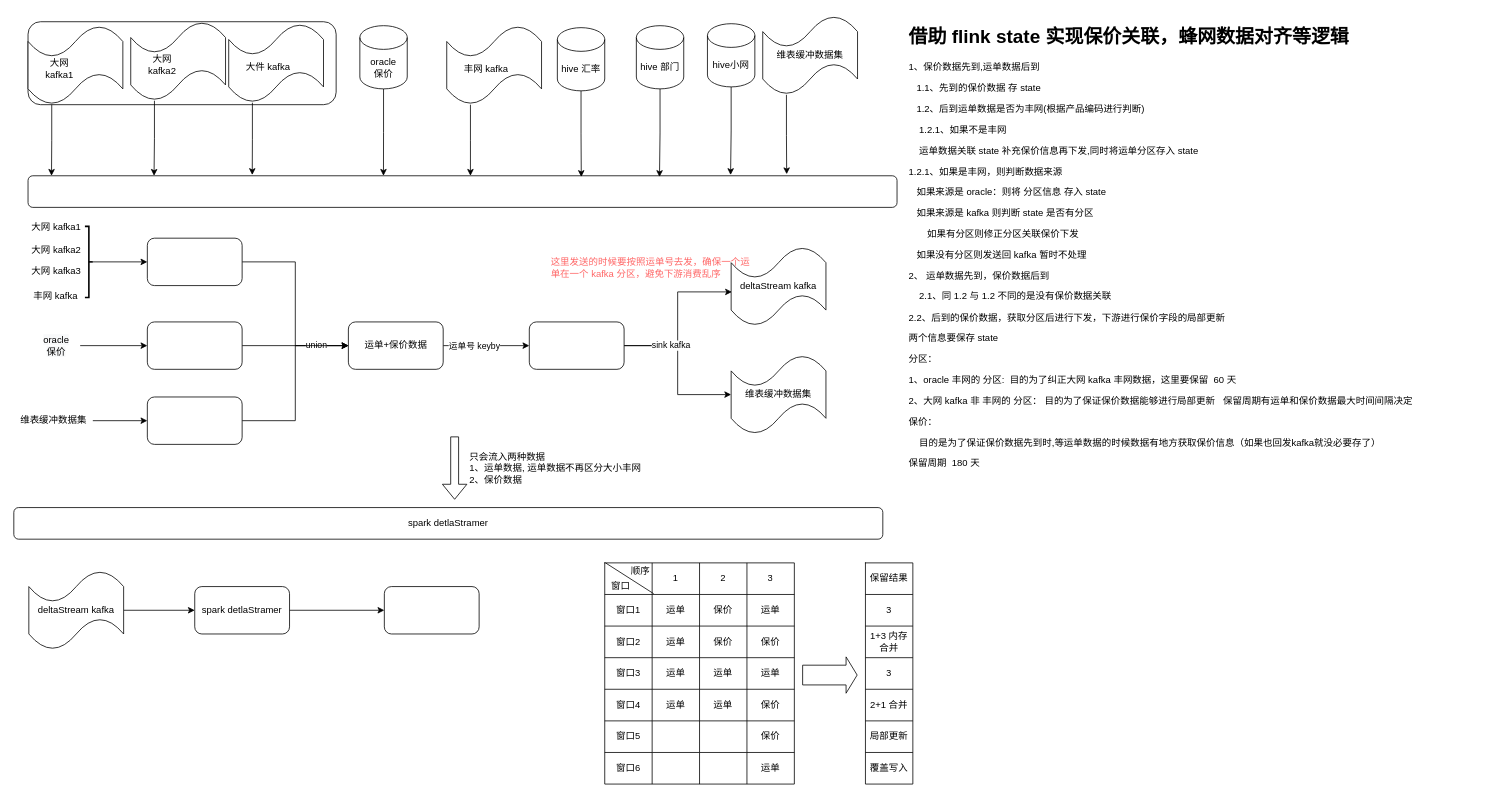
Image size: 1499x798. Some labels were removed from this diagram. The shapes that lost their labels are listed below. From the top down, each one's centre as x and y in pixels, then its label:
(462,191): flink
(194,261): 维表 join 汇率计算/部门补充
(194,345): 字段补齐
(576,345): process
(194,420): kafka source
(431,610): hudi
